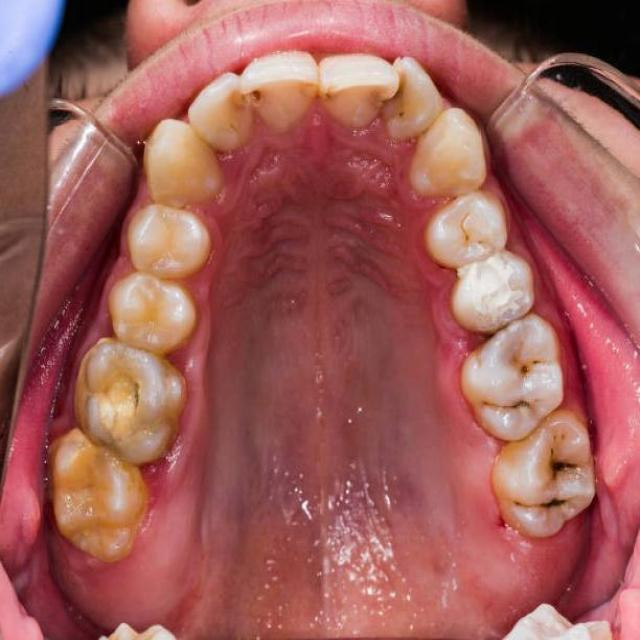caries: (461, 252, 528, 323), (100, 366, 155, 446), (225, 72, 282, 125), (369, 74, 419, 128), (512, 487, 575, 524), (540, 438, 587, 487), (478, 388, 539, 424), (452, 205, 492, 256), (301, 70, 349, 111), (508, 346, 550, 387)
